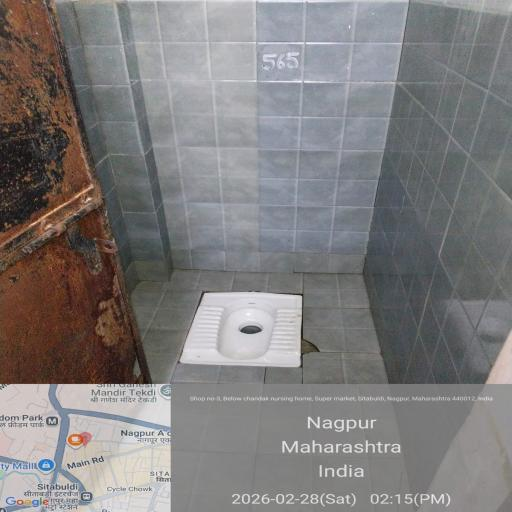clean_floor: (54, 5, 512, 273), (72, 349, 512, 512)
clean_indian: (179, 282, 310, 387)
